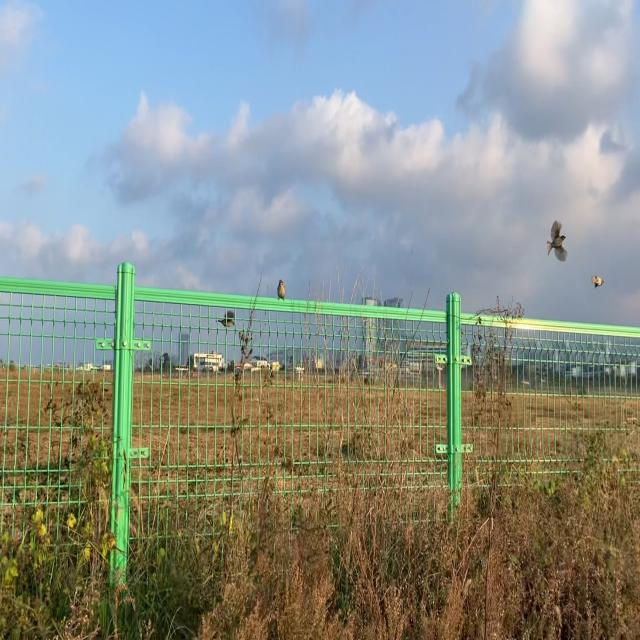bird: (546, 222, 570, 265), (219, 311, 236, 332), (275, 279, 287, 302), (594, 274, 605, 293)
